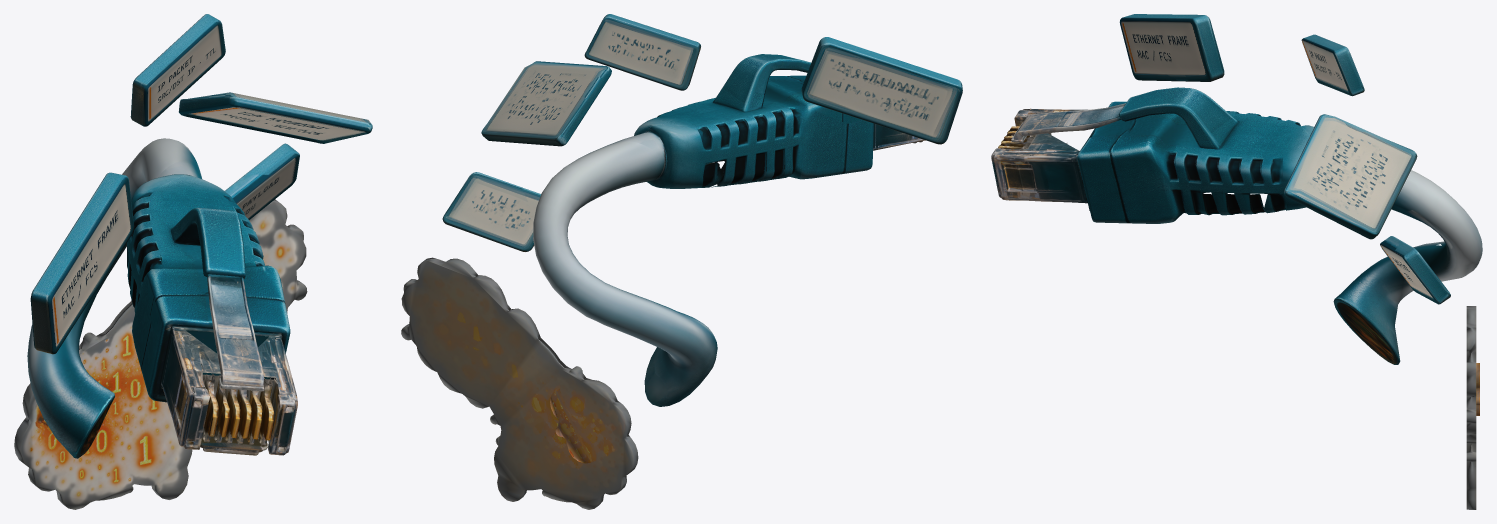
Rendered from bytes-to-sockets-hero.glb.
The picture shows the model from 3 angles, left to right: view 1: azimuth 30°, elevation 25°; view 2: azimuth 150°, elevation 25°; view 3: azimuth 270°, elevation 25°; orthographic projection. The views are drawn at different scales.
Visible parts, largest first — view 1: tripo_708303dd_a230_46d4_adc7_9713c7f146ea; view 2: tripo_708303dd_a230_46d4_adc7_9713c7f146ea; view 3: tripo_708303dd_a230_46d4_adc7_9713c7f146ea.
Part boxes in pixels (left/top/right/bottom): tripo_708303dd_a230_46d4_adc7_9713c7f146ea: left=14, top=14, right=372, bottom=509; tripo_708303dd_a230_46d4_adc7_9713c7f146ea: left=401, top=14, right=962, bottom=509; tripo_708303dd_a230_46d4_adc7_9713c7f146ea: left=991, top=14, right=1482, bottom=509.
Size of the model in its own units: 0.9165 by 0.9995 by 0.9995.
1 material, 1 textured.
